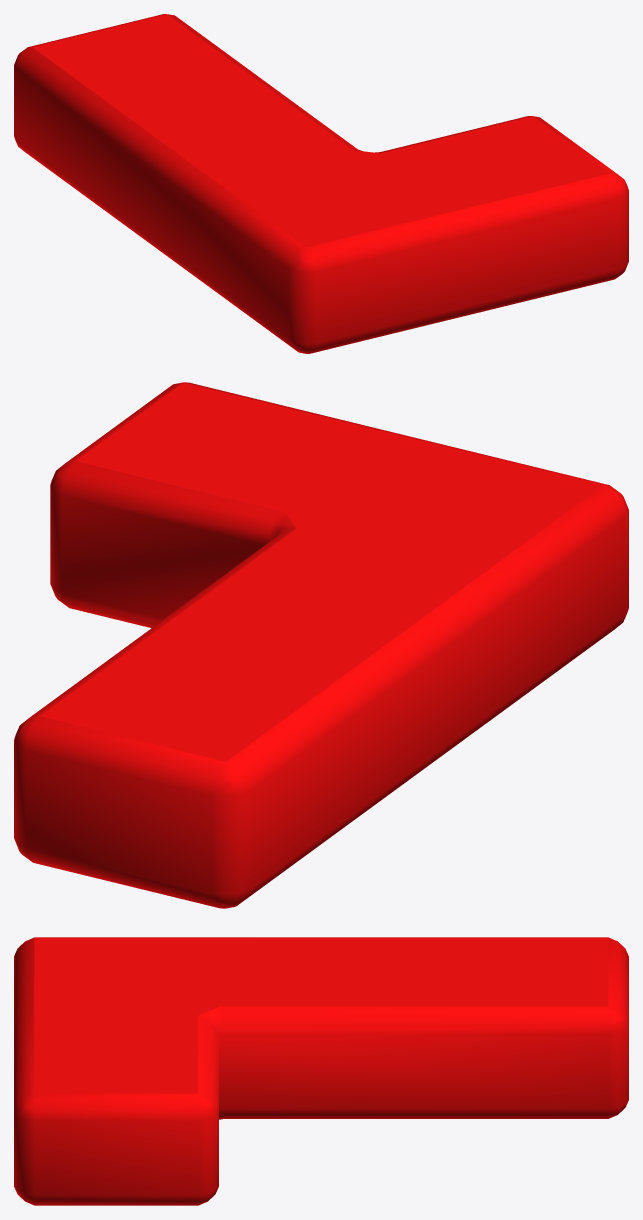
Rendered from LongLBlockRed.fbx.
The picture shows the model from 3 angles, top to bottom: view 1: azimuth 30°, elevation 25°; view 2: azimuth 150°, elevation 25°; view 3: azimuth 270°, elevation 25°; orthographic projection. The views are drawn at different scales.
Visible parts, largest first — view 1: LongLBlock; view 2: LongLBlock; view 3: LongLBlock.
Part boxes in pixels (<box>): LongLBlock: <box>14,14,628,353</box>; LongLBlock: <box>14,382,628,908</box>; LongLBlock: <box>14,937,628,1205</box>.
Size of the model in its own units: 4 by 1.2 by 6.
